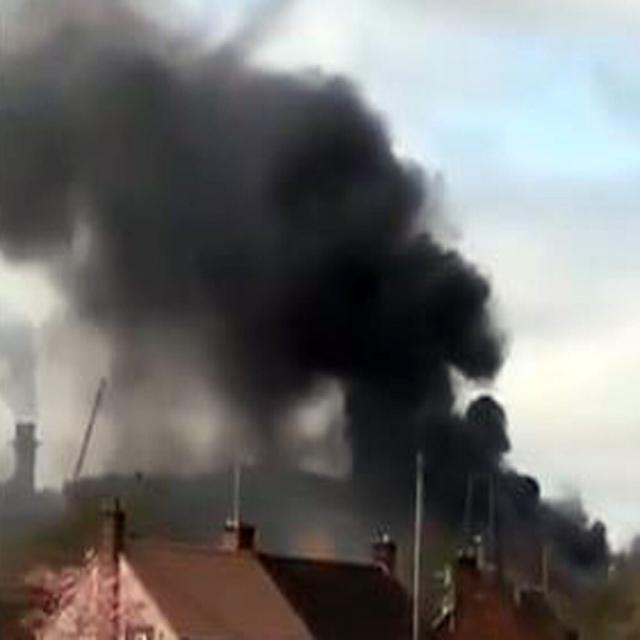Smoke: (0, 0, 607, 570)
